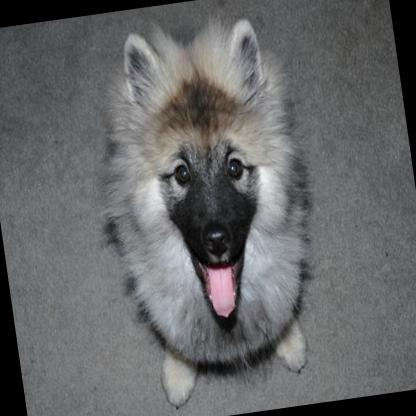keeshond: (78, 4, 338, 414)
